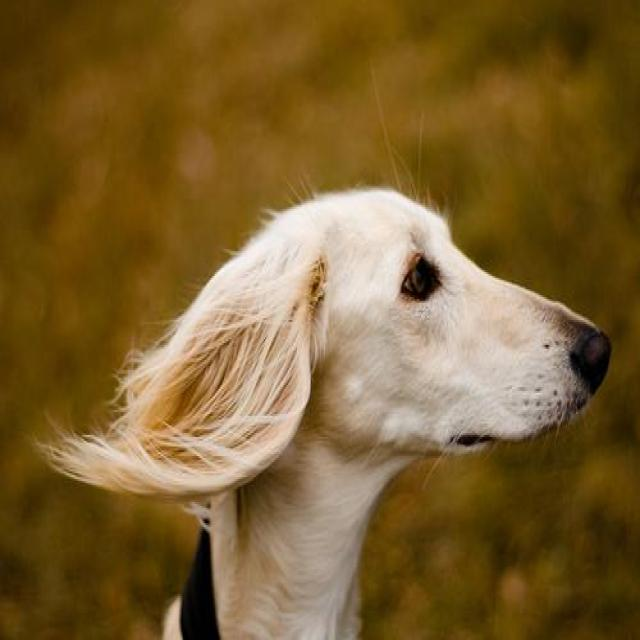saluki: (42, 188, 614, 636)
